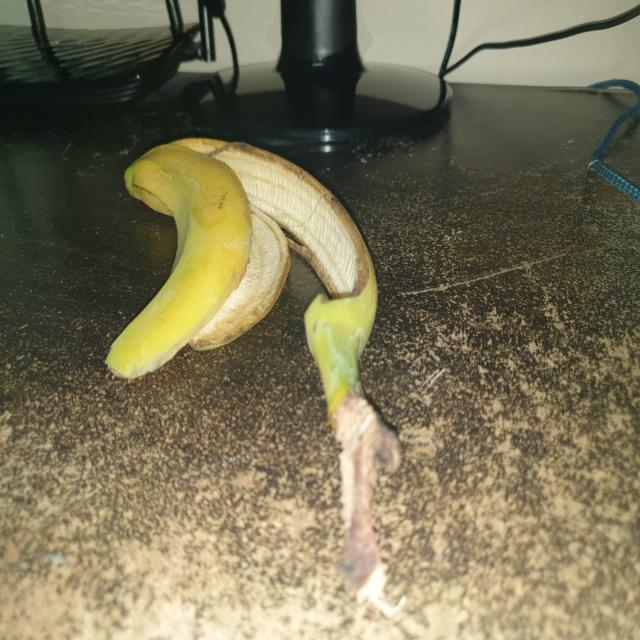banana-peel: (104, 135, 407, 618)
